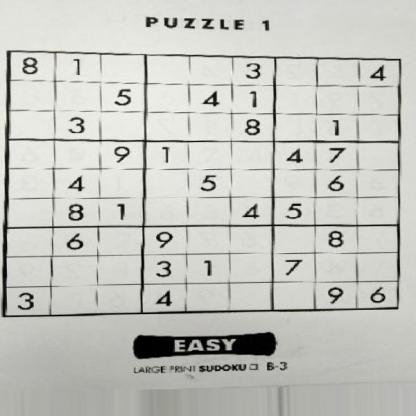sudoku: (2, 45, 402, 319)
